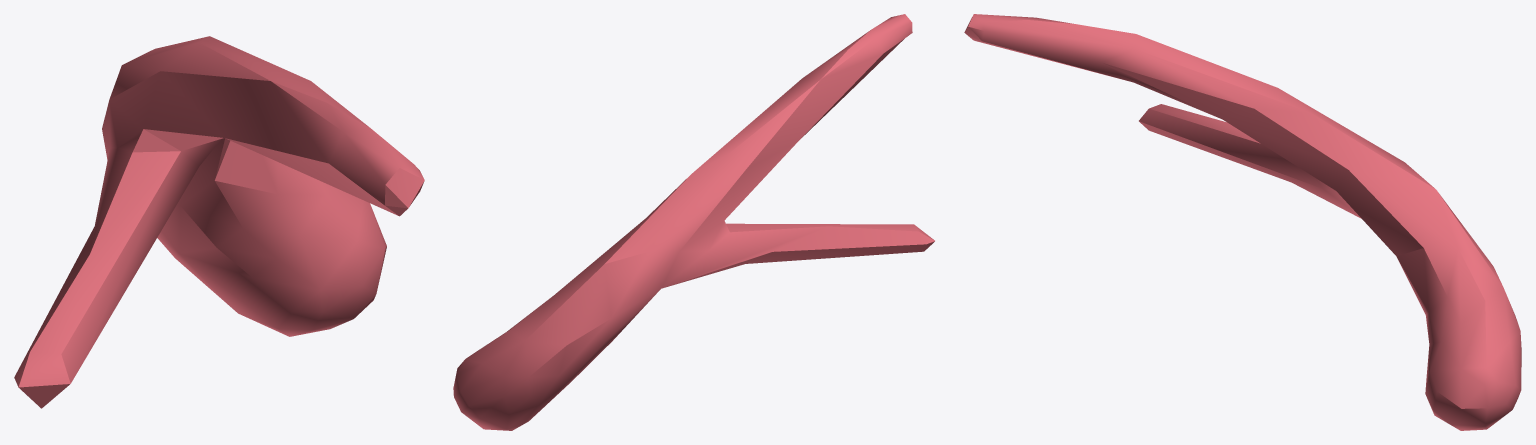
File: fma71693_fj5048.glb
3 renders of one model, left to right at view 1: azimuth 30°, elevation 25°; view 2: azimuth 150°, elevation 25°; view 3: azimuth 270°, elevation 25°, orthographic. The views are drawn at different scales.
Visible parts, largest first — view 1: FMA71693_FJ5048; view 2: FMA71693_FJ5048; view 3: FMA71693_FJ5048.
Boxes of the visible parts, x1,y1,x2,y2 form: FMA71693_FJ5048: (14,36,424,408); FMA71693_FJ5048: (453,14,934,430); FMA71693_FJ5048: (964,14,1521,430).
Bounding box in the file's own units: 0.00661 × 0.00559 × 0.00892.
